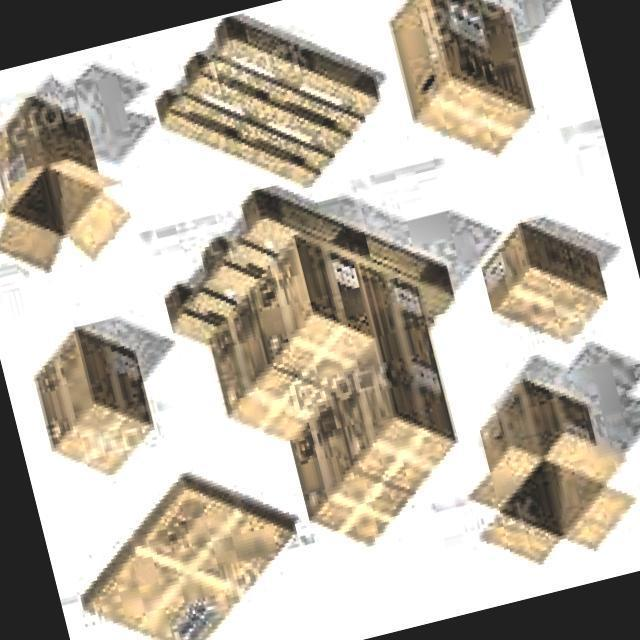cardboard: (137, 0, 398, 221), (55, 454, 317, 640), (378, 0, 544, 178), (0, 80, 138, 290), (471, 206, 616, 364)
